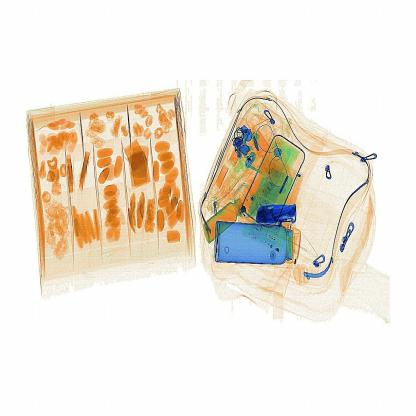knife: (256, 198, 303, 226)
